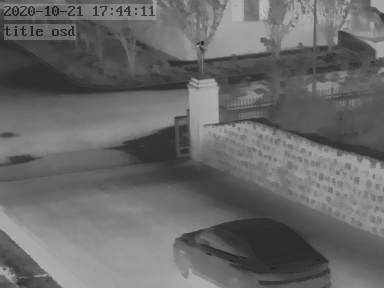vehicle: (169, 214, 334, 288)
